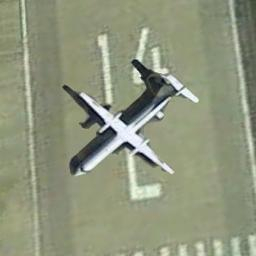Airplane: (61, 57, 199, 176)
